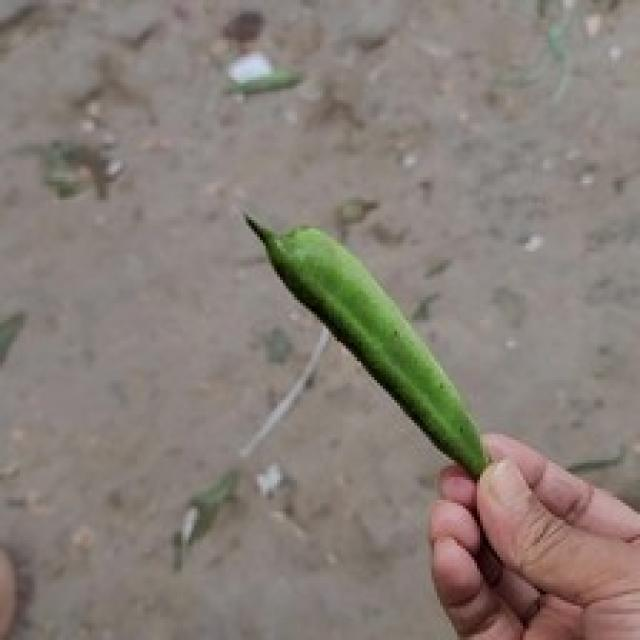Bean: (240, 209, 491, 480)
